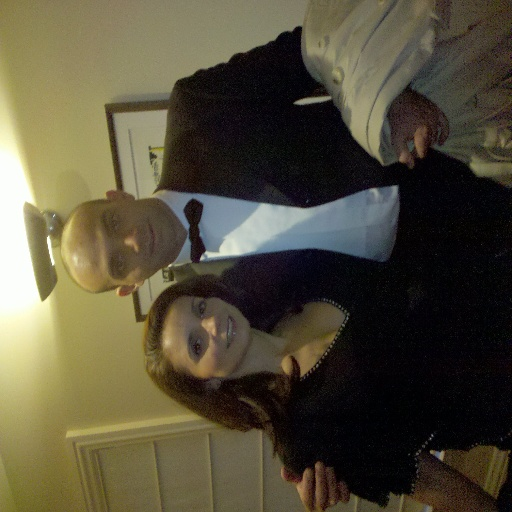hand: (390, 86, 451, 169), (276, 460, 350, 511)
